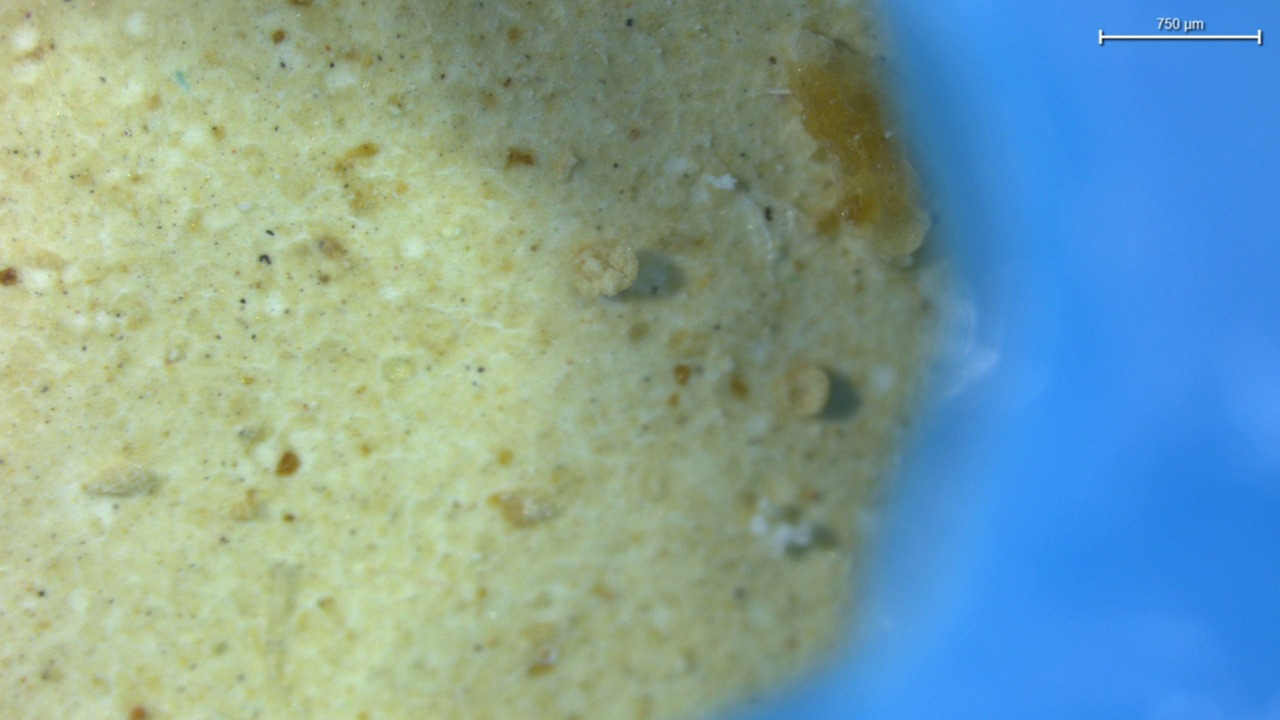microplastic_fragment: (566, 243, 638, 299)
